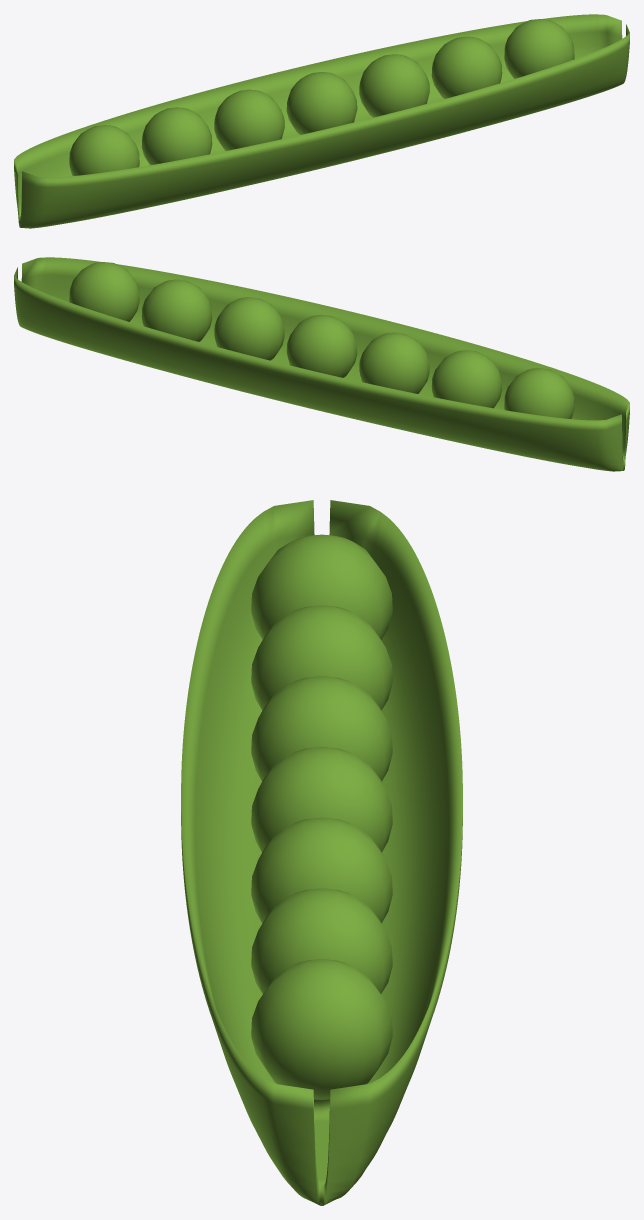
The model's file is NEW_RECOVERY_036_LOD0.fbx.
3 views of the same model, one above another, from view 1: azimuth 30°, elevation 25°; view 2: azimuth 150°, elevation 25°; view 3: azimuth 270°, elevation 25° (orthographic). The views are drawn at different scales.
Parts seen in each view (by area): view 1: Whole_open_pea_pod; view 2: Whole_open_pea_pod; view 3: Whole_open_pea_pod.
Part boxes in pixels (x1=…): Whole_open_pea_pod: x1=14, y1=14, x2=629, y2=228; Whole_open_pea_pod: x1=14, y1=257, x2=629, y2=471; Whole_open_pea_pod: x1=181, y1=500, x2=462, y2=1205.
Bounding box in the file's own units: 1000 × 202 × 125.
